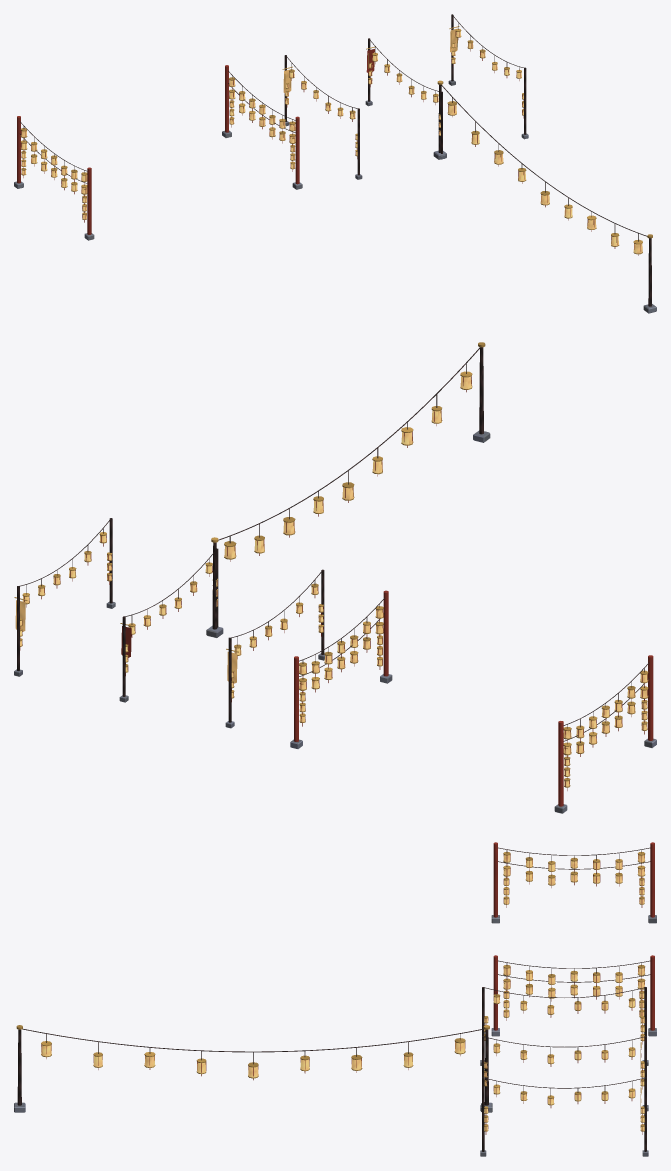
File: model-lantern-array-s1.glb
3 renders of one model, top to bottom at view 1: azimuth 30°, elevation 25°; view 2: azimuth 150°, elevation 25°; view 3: azimuth 270°, elevation 25°, orthographic. The views are drawn at different scales.
Visible parts, largest first — view 1: model-lantern-array-s1; view 2: model-lantern-array-s1; view 3: model-lantern-array-s1.
Part boxes in pixels (x1=…): model-lantern-array-s1: x1=14, y1=14, x2=656, y2=313; model-lantern-array-s1: x1=14, y1=342, x2=656, y2=813; model-lantern-array-s1: x1=14, y1=842, x2=656, y2=1156.
Size of the model in its own units: 31.6 by 5.2 by 36.06.
Materials: 6 (6 with a texture image).
